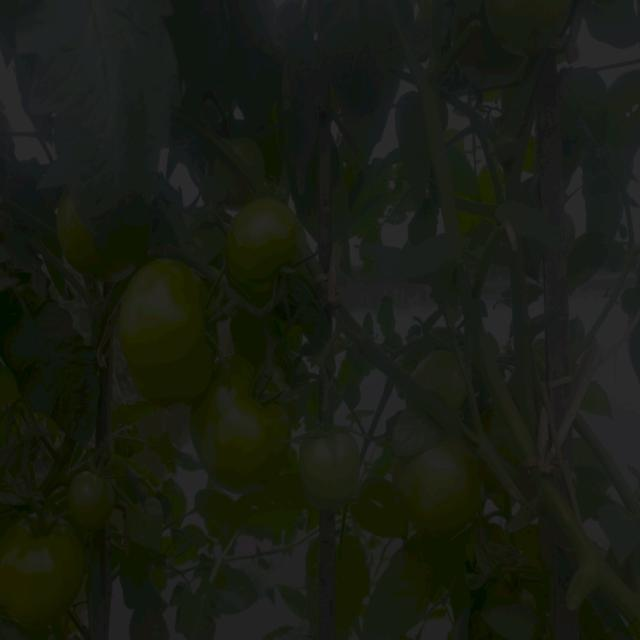tomato: (118, 257, 215, 399), (187, 363, 294, 491), (4, 518, 86, 621), (400, 440, 486, 537), (226, 198, 311, 288), (294, 430, 369, 512), (481, 4, 574, 54), (416, 350, 472, 409), (71, 470, 120, 531), (62, 205, 98, 266), (235, 137, 269, 171)
